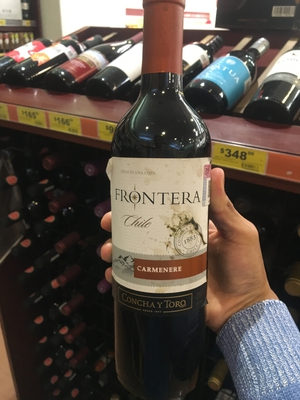frontera carmenere: (100, 12, 221, 375)
